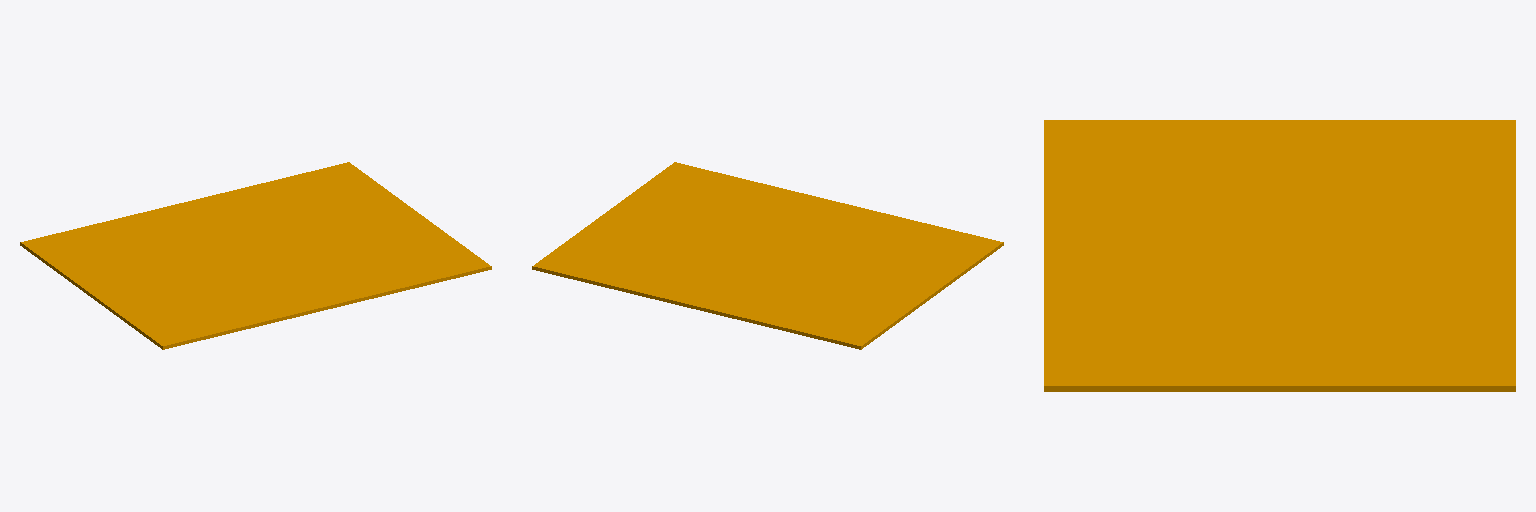
URDF robot description (calibration_board):
<?xml version="1.0"?>
<robot name="calibration_board">
  <!-- 链接定义 -->
  <link name="calibration_board_link">
    <!-- 惯性属性 -->
    <inertial>
      <origin xyz="0 0 0" rpy="0 0 0"/>
      <mass value="1.0"/>
      <inertia ixx="0.1" ixy="0.0" ixz="0.0" iyy="0.1" iyz="0.0" izz="0.1"/>
    </inertial>
    <!-- 碰撞属性 -->
    <collision>
      <origin xyz="0 0 0" rpy="0 0 0"/>
      <geometry>
        <box size="0.25 0.20 0.002"/>
      </geometry>
    </collision>
    <!-- 可视化属性：保留的mesh -->
    <visual>
      <origin xyz="0 0 0" rpy="0 0 3.141592653589793"/>
      <geometry>
        <mesh filename="package://duco_description/meshes/calibration_board/calibration_board.dae"/>
      </geometry>
    </visual>
  </link>
</robot>

--- Render facts (derived) ---
Views: 3 orthographic renders of the robot side by side, from view 1: azimuth 30°, elevation 25°; view 2: azimuth 150°, elevation 25°; view 3: azimuth 270°, elevation 25°.
Model calibration_board with 1 links and 0 joints (none), rooted at calibration_board_link, posed all joints at 0.
Visible links, largest first — view 1: calibration_board_link; view 2: calibration_board_link; view 3: calibration_board_link.
Boxes of the visible links, x1,y1,x2,y2 form: calibration_board_link: (20, 162, 491, 349); calibration_board_link: (532, 162, 1003, 349); calibration_board_link: (1044, 120, 1515, 391).
Size in the robot's own frame: 0.4 by 0.3 by 0.004 metres.
Meshes: 1 distinct files referenced, 1 mesh visuals loaded (1 Collada DAE).
